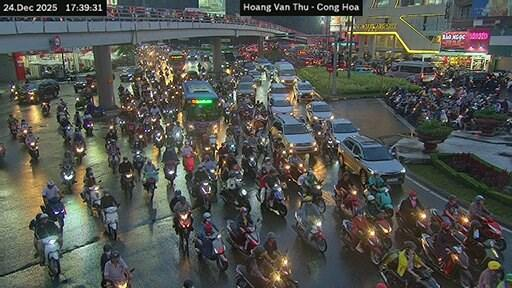motorbike: (422, 233, 472, 287), (454, 232, 502, 270), (291, 211, 326, 252), (378, 265, 440, 287), (194, 233, 227, 270), (220, 172, 249, 210), (227, 219, 259, 253), (256, 183, 287, 216), (396, 208, 428, 237), (480, 216, 505, 250), (41, 234, 60, 278), (368, 212, 391, 248), (39, 197, 64, 229), (361, 226, 381, 264), (332, 190, 358, 216), (297, 180, 325, 203), (265, 266, 297, 286), (80, 184, 99, 216), (374, 185, 393, 216), (176, 211, 191, 250), (235, 265, 258, 287), (341, 220, 357, 250), (102, 207, 117, 238), (284, 162, 306, 183), (197, 180, 211, 210), (240, 153, 256, 178), (60, 165, 74, 192), (429, 207, 444, 232), (121, 171, 134, 198), (182, 153, 194, 181), (454, 212, 469, 234), (323, 138, 336, 161), (144, 178, 156, 202), (133, 149, 144, 175), (163, 163, 176, 184), (256, 134, 268, 156), (73, 140, 85, 162), (26, 140, 38, 157), (108, 152, 118, 172), (153, 130, 163, 148), (172, 130, 182, 148), (61, 125, 70, 144), (83, 118, 92, 135), (133, 135, 144, 148), (9, 121, 18, 136), (19, 127, 28, 142), (118, 118, 125, 134), (41, 100, 48, 116), (150, 115, 159, 126), (224, 107, 230, 122), (0, 143, 6, 158), (10, 130, 12, 131)
